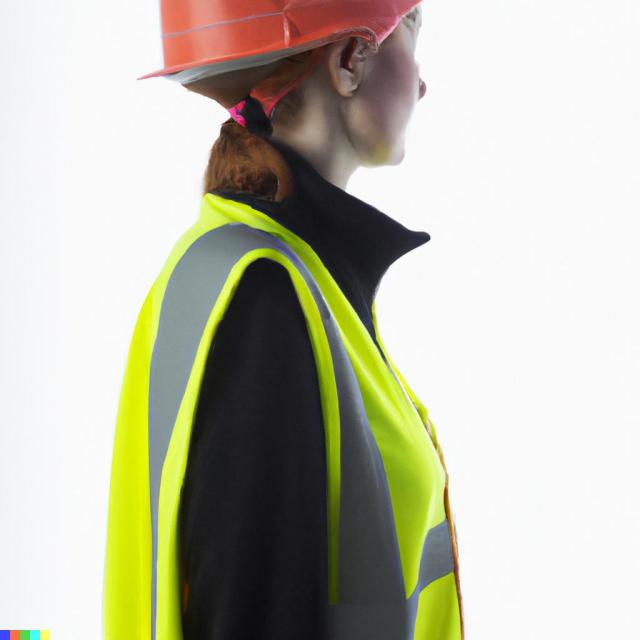Reflective-Jacket: (84, 173, 474, 640)
Safety-Helmet: (134, 1, 444, 111)
